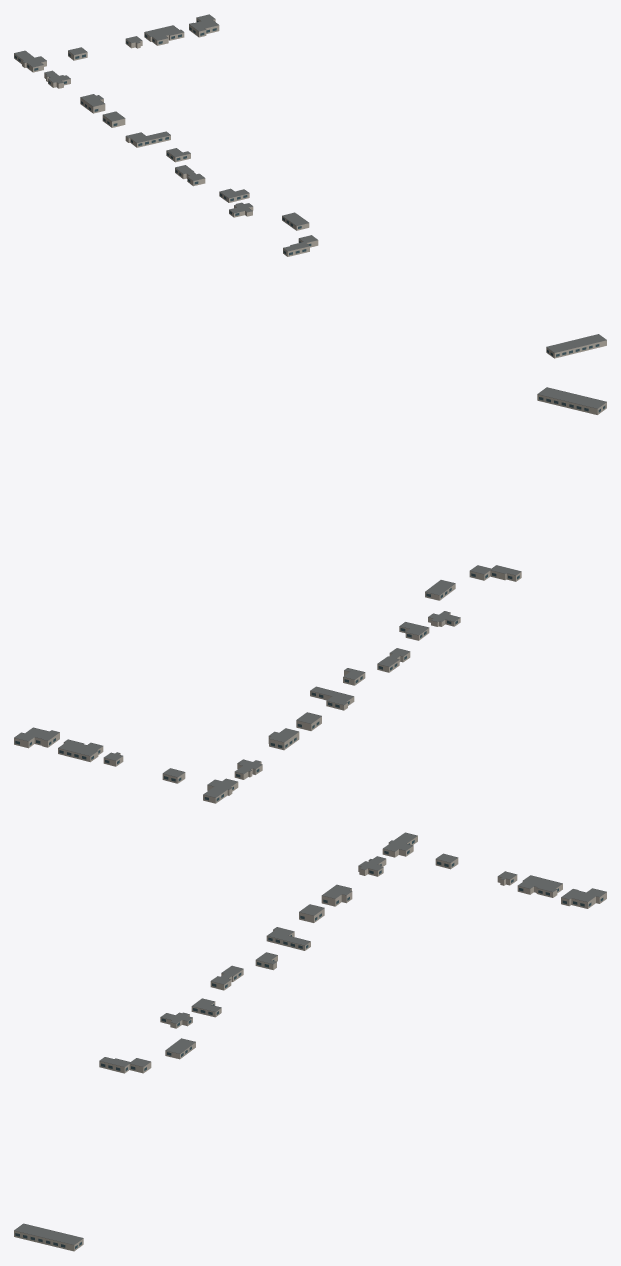
The picture shows the model from 3 angles, top to bottom: view 1: azimuth 30°, elevation 25°; view 2: azimuth 150°, elevation 25°; view 3: azimuth 330°, elevation 25°; orthographic projection. The views are drawn at different scales.
Visible parts, largest first — view 1: Buildings (-7, 3) Roof membrane, Buildings (-7, 3) Masonry brick, Buildings (-7, 3) Metal coping, Buildings (-7, 3) Architectural tinted glass; view 2: Buildings (-7, 3) Roof membrane, Buildings (-7, 3) Masonry brick, Buildings (-7, 3) Metal coping, Buildings (-7, 3) Architectural tinted glass; view 3: Buildings (-7, 3) Roof membrane, Buildings (-7, 3) Masonry brick, Buildings (-7, 3) Metal coping, Buildings (-7, 3) Architectural tinted glass.
Part boxes in pixels (left/top/right/bottom): Buildings (-7, 3) Roof membrane: left=14, top=14, right=605, bottom=352; Buildings (-7, 3) Masonry brick: left=14, top=18, right=606, bottom=358; Buildings (-7, 3) Metal coping: left=14, top=14, right=606, bottom=352; Buildings (-7, 3) Architectural tinted glass: left=14, top=20, right=599, bottom=356; Buildings (-7, 3) Roof membrane: left=14, top=387, right=605, bottom=797; Buildings (-7, 3) Masonry brick: left=14, top=394, right=606, bottom=803; Buildings (-7, 3) Metal coping: left=14, top=387, right=606, bottom=797; Buildings (-7, 3) Architectural tinted glass: left=15, top=397, right=605, bottom=801; Buildings (-7, 3) Roof membrane: left=14, top=832, right=606, bottom=1244; Buildings (-7, 3) Masonry brick: left=14, top=836, right=606, bottom=1251; Buildings (-7, 3) Metal coping: left=14, top=832, right=606, bottom=1244; Buildings (-7, 3) Architectural tinted glass: left=15, top=840, right=603, bottom=1248.
Size of the model in its own units: 142 by 5.78 by 576.
